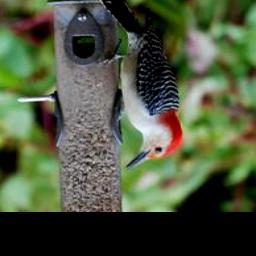Woodpecker: (94, 0, 183, 170)
